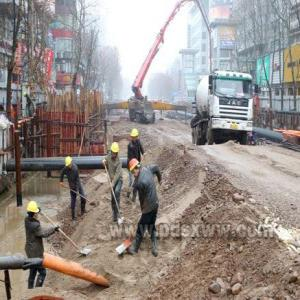red: (130, 156, 140, 178)
yellow: (27, 200, 40, 221), (110, 142, 120, 162), (65, 156, 73, 171), (131, 129, 139, 143)
